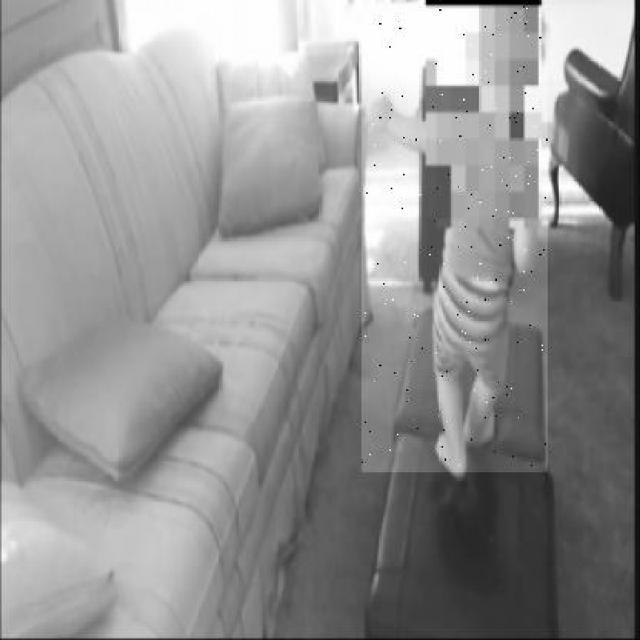child: (361, 5, 547, 473)
